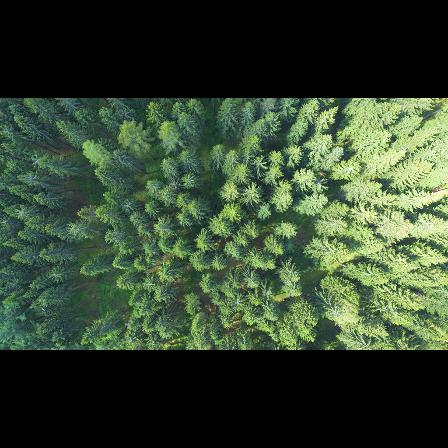Sick: (309, 173, 332, 192), (252, 154, 270, 175), (120, 195, 139, 213), (181, 172, 201, 189), (230, 291, 248, 309), (14, 206, 29, 221)
